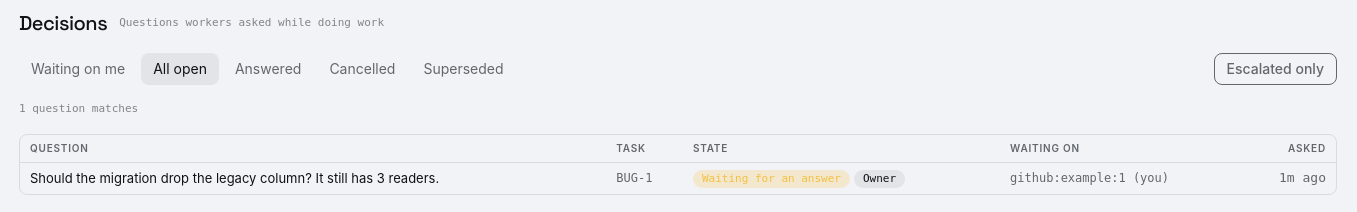
it: escalated only is filtered by the server, so its total is exact
Check: the table named "All open" is shown, box [20,134,1336,194]
Click the button "Escalated only": (1275, 69) [1214,53,1337,85]
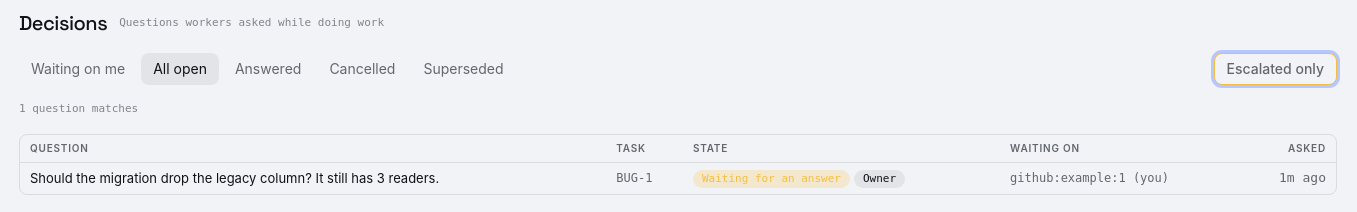
Check: the text "1 question matches" is shown, box [19,102,138,115]
Click the link "Waiting on me": (78, 68) [31,60,125,77]
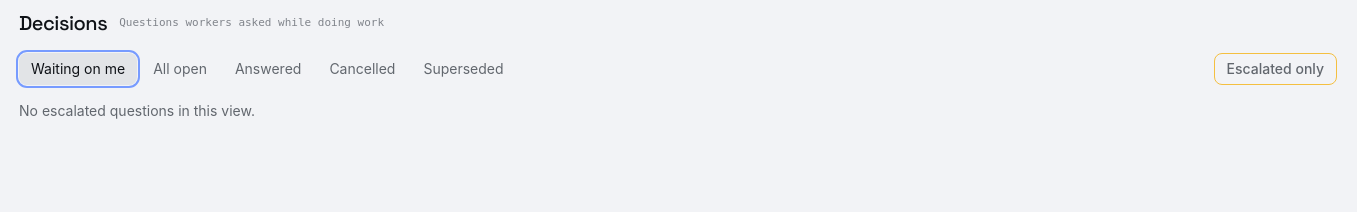
Check: the text "No escalated questions in this view." is shown, box [19,102,255,119]
Check: the text "question matches" is gone
